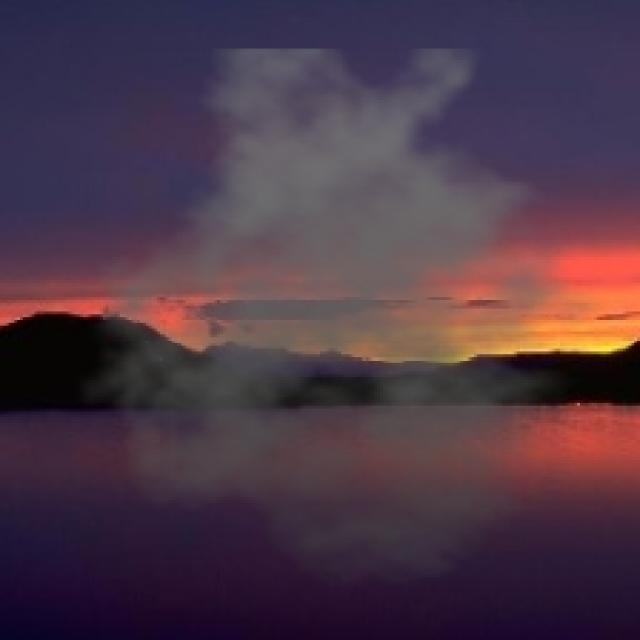Smoke: (74, 49, 629, 588)
